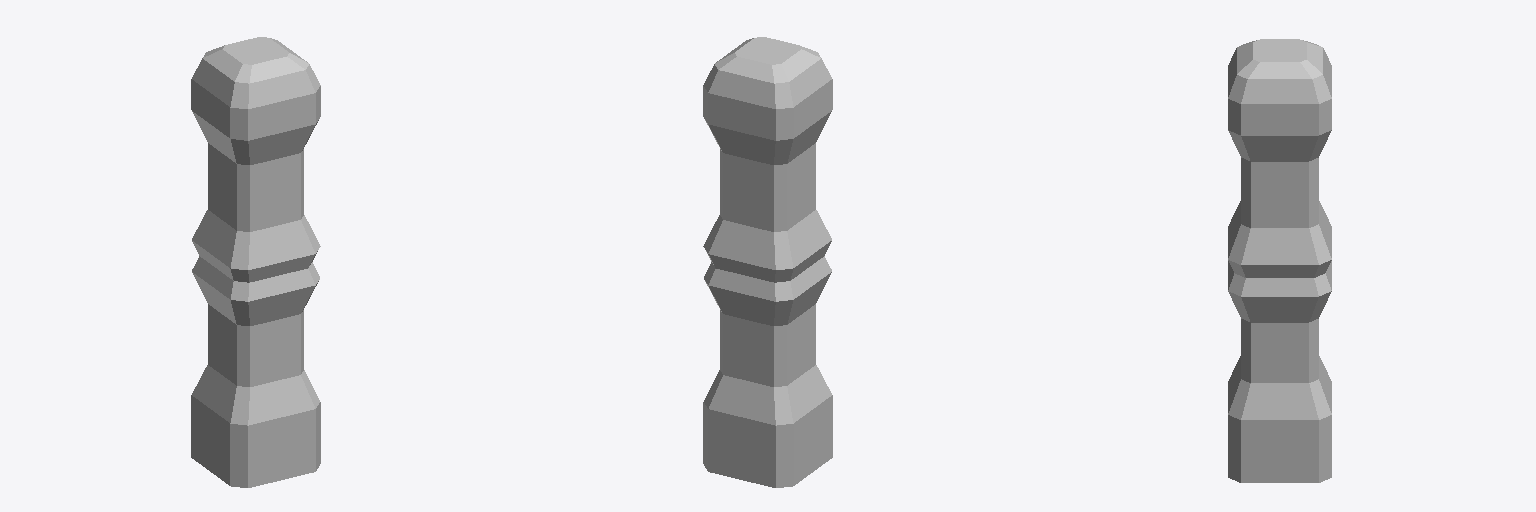
File: Structure_Stairs_Railing_Post.obj
3 views of the same model, side by side, from view 1: azimuth 30°, elevation 25°; view 2: azimuth 150°, elevation 25°; view 3: azimuth 270°, elevation 25° (orthographic).
Parts seen in each view (by area): view 1: object1; view 2: object1; view 3: object1.
Boxes of the visible parts, x1,y1,x2,y2 form: object1: [191, 37, 320, 487]; object1: [703, 37, 832, 487]; object1: [1228, 39, 1331, 482].
Size of the model in its own units: 0.15 by 0.6531 by 0.15.